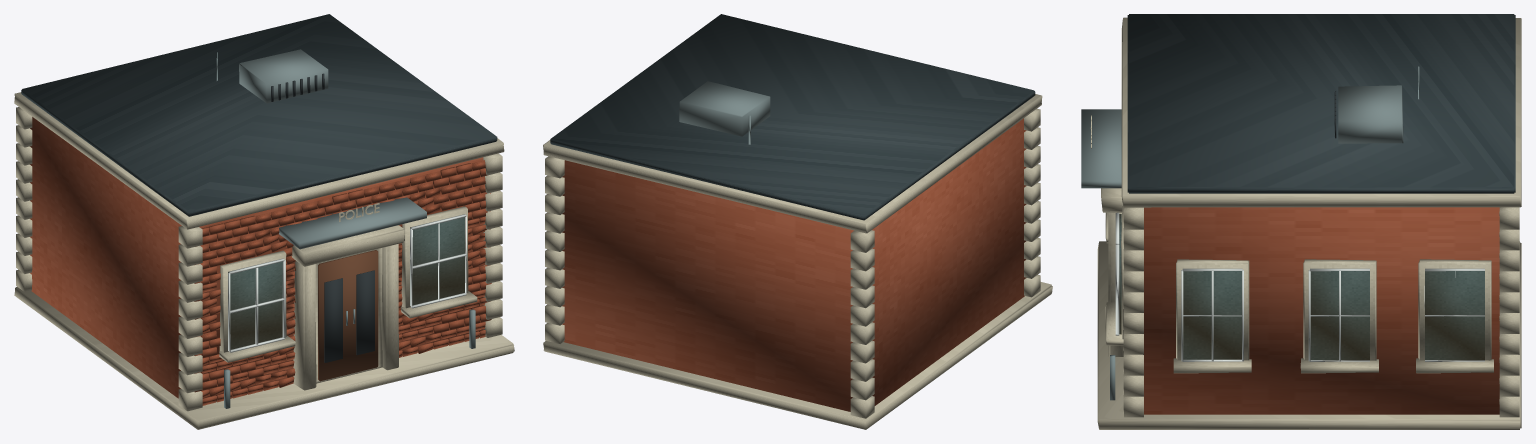
3 renders of one model, left to right at view 1: azimuth 30°, elevation 25°; view 2: azimuth 150°, elevation 25°; view 3: azimuth 270°, elevation 25°, orthographic. The views are drawn at different scales.
Visible parts, largest first — view 1: police_station__static_slate, police_station__static_warm_brick, police_station__static_limestone, police_station__static_warm_glazing, police_station__static_patinated_metal, police_station__door_01__recessed_entrance_leaf, police_station__static_civic_pale_painted_trim, police_station__door_01, police_station__door_01__door_inset_panel; view 2: police_station__static_warm_brick, police_station__static_slate, police_station__static_limestone, police_station__static_patinated_metal; view 3: police_station__static_slate, police_station__static_warm_brick, police_station__static_limestone, police_station__static_warm_glazing, police_station__static_patinated_metal, police_station__static_civic_pale_painted_trim.
Part boxes in pixels (x1,y1,x2,y2): police_station__static_slate: (21,14,497,216); police_station__static_warm_brick: (30,117,491,405); police_station__static_limestone: (14,92,514,429); police_station__static_warm_glazing: (228,217,464,349); police_station__static_patinated_metal: (216,49,475,408); police_station__door_01__recessed_entrance_leaf: (318,250,378,381); police_station__static_civic_pale_painted_trim: (228,214,466,352); police_station__door_01: (353,270,374,355); police_station__door_01__door_inset_panel: (324,278,342,362); police_station__static_warm_brick: (562,118,1026,411); police_station__static_slate: (550,14,1035,220); police_station__static_limestone: (543,94,1052,429); police_station__static_patinated_metal: (679,81,770,144); police_station__static_slate: (1127,14,1515,193); police_station__static_warm_brick: (1144,207,1499,414); police_station__static_limestone: (1090,17,1521,429); police_station__static_warm_glazing: (1119,214,1484,359); police_station__static_patinated_metal: (1081,66,1419,400); police_station__static_civic_pale_painted_trim: (1115,212,1484,361).
Bounding box in the file's own units: 7.2 × 5 × 7.27.
8 materials, 4 textured.
